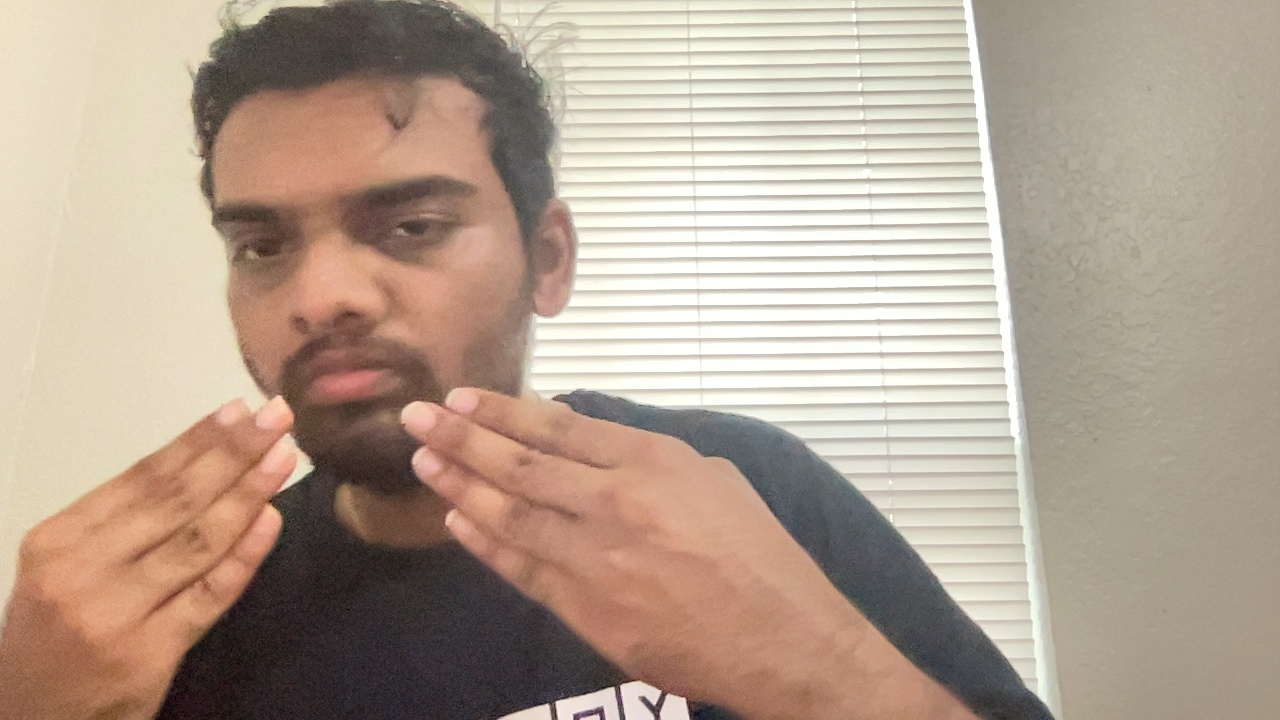thanks: (10, 386, 825, 706)
